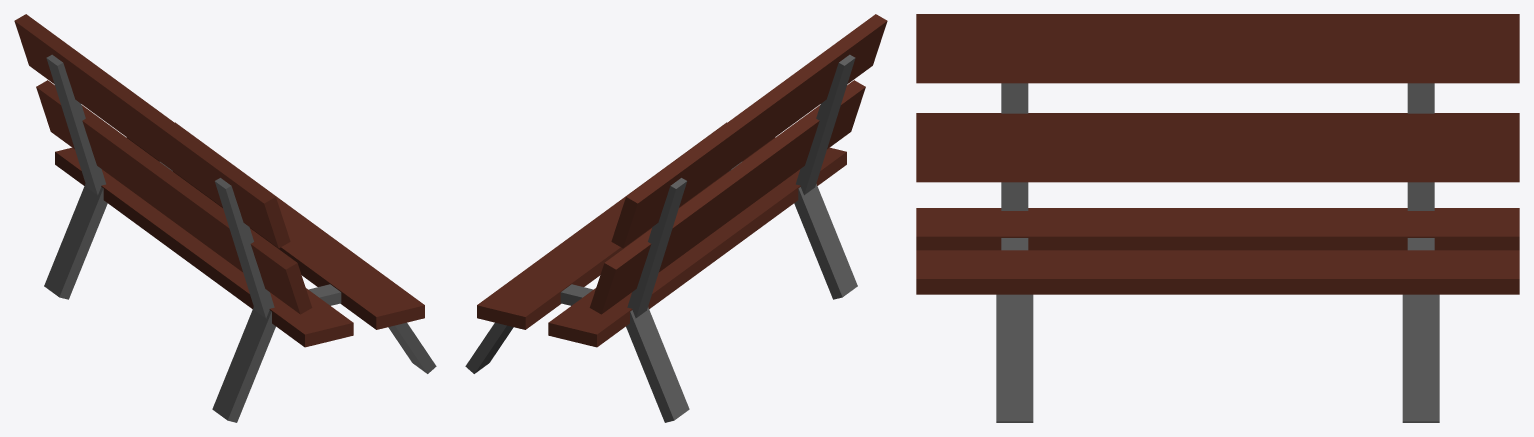
Rendered from bench.glb.
The picture shows the model from 3 angles, left to right: view 1: azimuth 30°, elevation 25°; view 2: azimuth 150°, elevation 25°; view 3: azimuth 270°, elevation 25°; orthographic projection. The views are drawn at different scales.
Visible parts, largest first — view 1: Cube.003, Cube.002, Cube, Cube.001, Cube.006, Cube.009, Cube.005, Cube.004, Cube.008; view 2: Cube.003, Cube.002, Cube, Cube.001, Cube.009, Cube.006, Cube.004, Cube.005, Cube.007; view 3: Cube.002, Cube.003, Cube.001, Cube, Cube.007, Cube.008, Cube.004, Cube.005.
Boxes of the visible parts, <box> form: Cube.003: <box>14,14,290,248</box>; Cube.002: <box>36,80,312,314</box>; Cube: <box>55,147,353,347</box>; Cube.001: <box>126,122,424,329</box>; Cube.006: <box>44,184,107,299</box>; Cube.009: <box>212,307,275,422</box>; Cube.005: <box>214,178,341,318</box>; Cube.004: <box>46,54,172,195</box>; Cube.008: <box>388,322,436,373</box>; Cube.003: <box>611,14,887,248</box>; Cube.002: <box>589,80,865,314</box>; Cube: <box>548,147,846,347</box>; Cube.001: <box>477,122,775,329</box>; Cube.009: <box>794,184,857,299</box>; Cube.006: <box>626,307,689,422</box>; Cube.004: <box>560,178,687,318</box>; Cube.005: <box>729,54,855,195</box>; Cube.007: <box>465,322,513,373</box>; Cube.002: <box>916,113,1519,182</box>; Cube.003: <box>916,14,1519,83</box>; Cube.001: <box>916,250,1519,294</box>; Cube: <box>916,208,1519,250</box>; Cube.007: <box>1402,294,1439,422</box>; Cube.008: <box>996,294,1033,422</box>; Cube.004: <box>1407,83,1434,250</box>; Cube.005: <box>1001,83,1028,250</box>.
Bounding box in the file's own units: 1.3 × 1.48 × 2.69.
